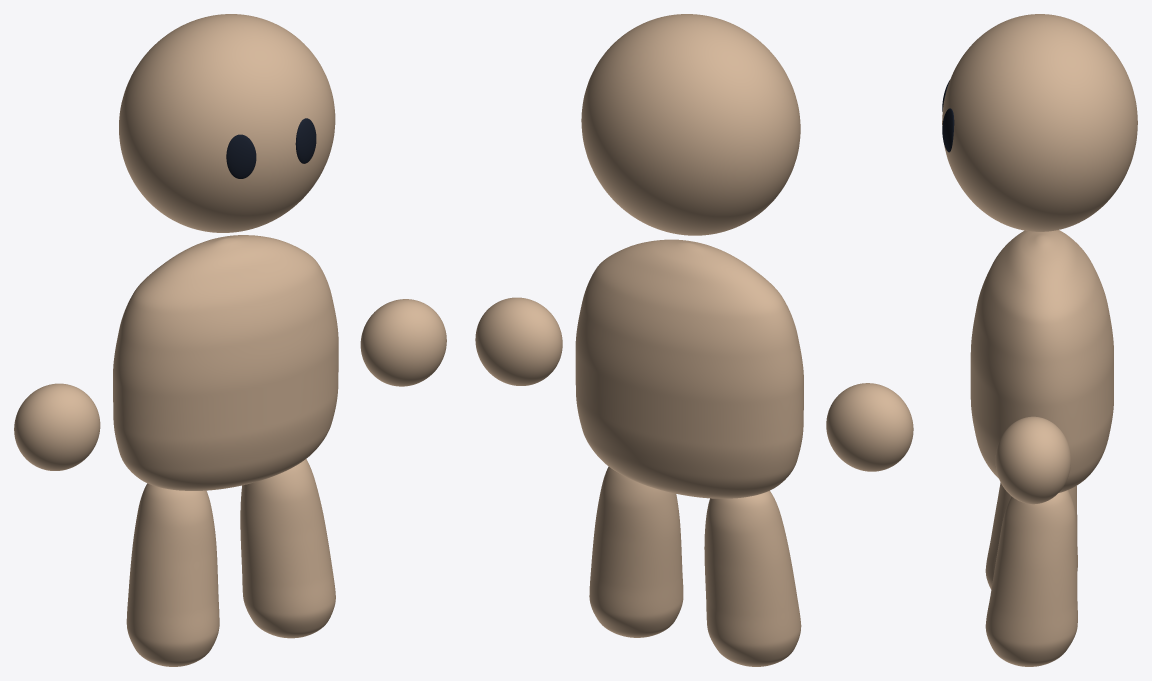
Rendered from Masculine-skin0.glb.
3 views of the same model, side by side, from view 1: azimuth 30°, elevation 25°; view 2: azimuth 150°, elevation 25°; view 3: azimuth 270°, elevation 25° (orthographic). The views are drawn at different scales.
Visible parts, largest first — view 1: Rounded torso, Round head, Left leg blob, Right leg blob, Right round hand, Left round hand, Left optional eye, Right optional eye; view 2: Rounded torso, Round head, Left leg blob, Right leg blob, Left round hand, Right round hand; view 3: Round head, Rounded torso, Right leg blob, Right round hand, Left leg blob, Right optional eye.
Boxes of the visible parts, x1,y1,x2,y2 form: Rounded torso: (113,235,338,490); Round head: (119,14,335,232); Left leg blob: (126,483,219,666); Right leg blob: (240,459,335,638); Right round hand: (360,299,446,386); Left round hand: (14,383,100,470); Left optional eye: (226,134,256,178); Right optional eye: (295,118,316,163); Rounded torso: (575,239,803,498); Round head: (581,14,800,235); Left leg blob: (704,490,801,666); Right leg blob: (589,466,683,637); Left round hand: (826,383,913,471); Right round hand: (475,297,562,385); Round head: (942,14,1137,231); Rounded torso: (970,230,1113,492); Right leg blob: (985,490,1077,666); Right round hand: (995,416,1070,504); Left leg blob: (985,482,1077,589); Right optional eye: (942,108,954,152).
Bounding box in the file's own units: 1.94 × 2.72 × 0.792.
